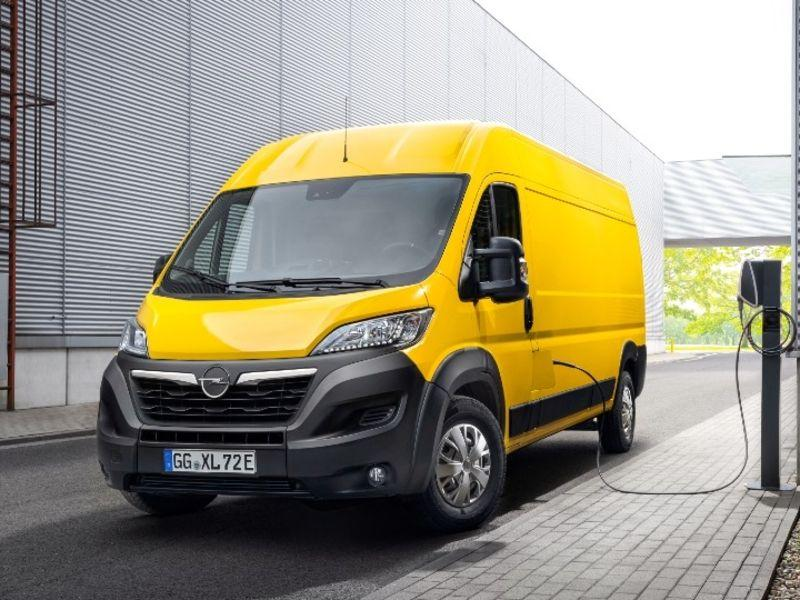van: (97, 117, 646, 532)
